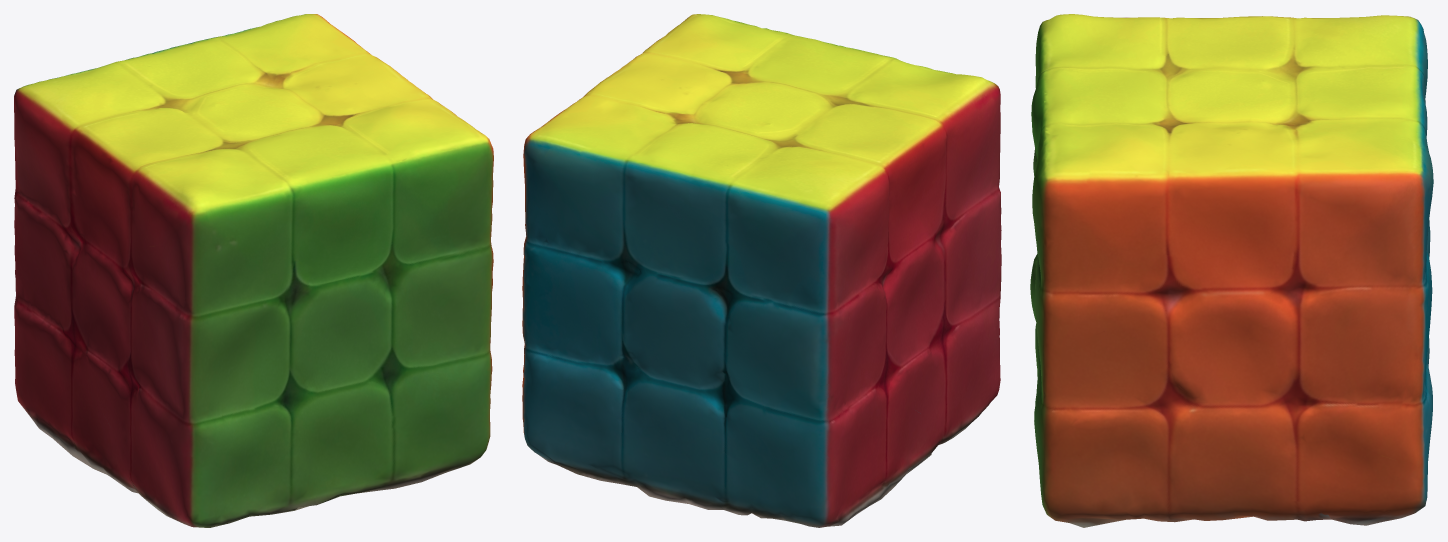
Rendered from rubic_cube.obj.
3 renders of one model, left to right at view 1: azimuth 30°, elevation 25°; view 2: azimuth 150°, elevation 25°; view 3: azimuth 270°, elevation 25°, orthographic. The views are drawn at different scales.
Parts seen in each view (by area): view 1: mesh_0; view 2: mesh_0; view 3: mesh_0.
Boxes of the visible parts, bbox=[...] form: mesh_0: bbox=[14, 14, 493, 527]; mesh_0: bbox=[522, 14, 1001, 527]; mesh_0: bbox=[1030, 14, 1433, 527].
Size of the model in its own units: 0.0569 by 0.059 by 0.0572.
1 material, 1 textured.
